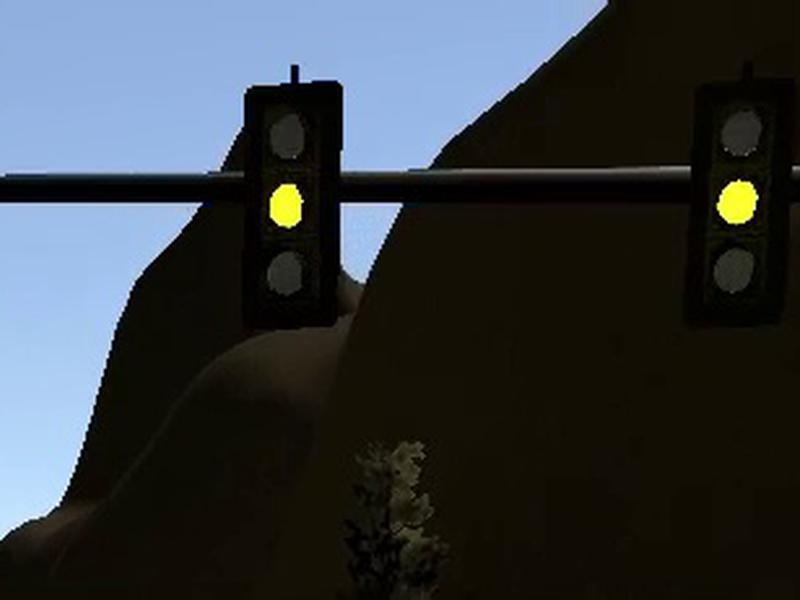Yellow: (684, 76, 793, 328), (243, 79, 343, 329)
